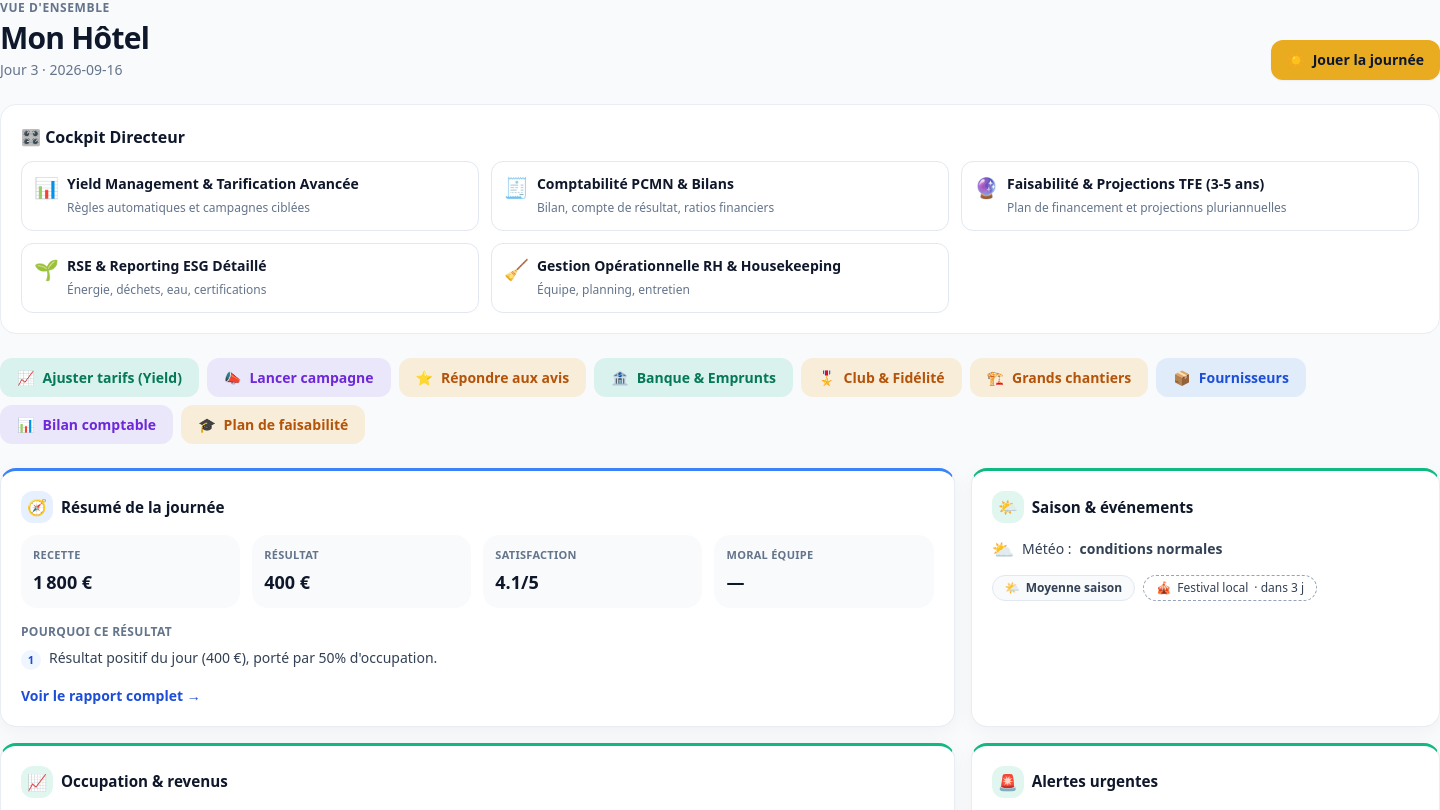
Dashboard / loyalty club › opens the club's desk from there
The image size is (1440, 810).
What coordinates should you click on to do the following:
click the button with test id "quick-loyalty"
I would click on:
 (881, 378)
Its box is [801,358,962,397].
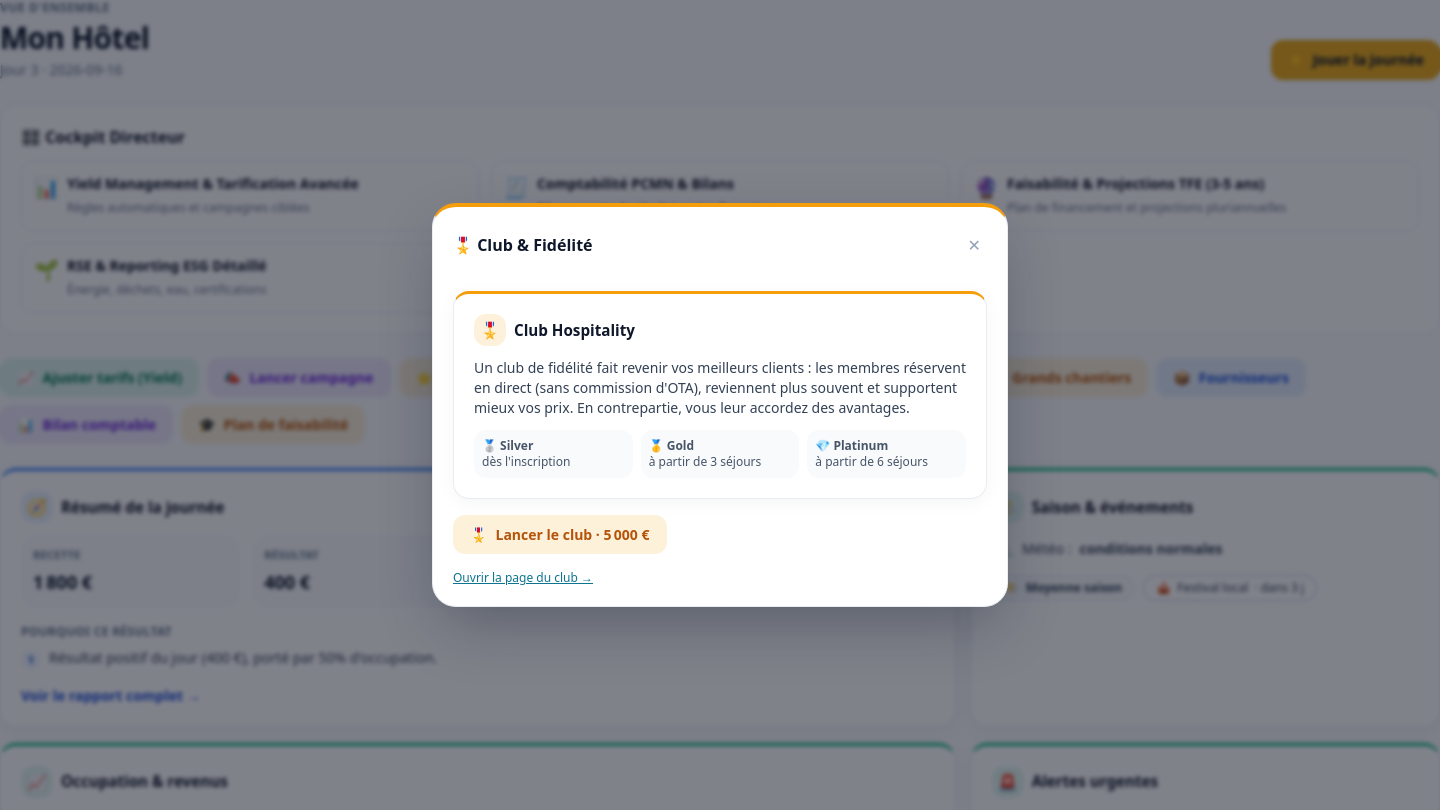
expect the dialog "Club & Fidélité" is shown: met
